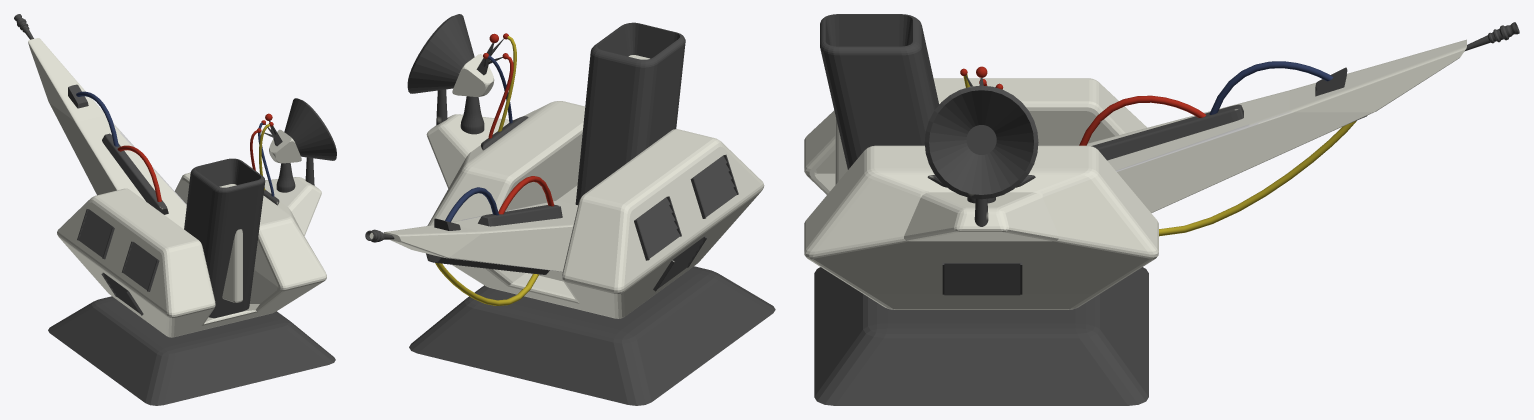
The model's file is ArmaLunar.fbx.
3 views of the same model, side by side, from view 1: azimuth 30°, elevation 25°; view 2: azimuth 150°, elevation 25°; view 3: azimuth 270°, elevation 25° (orthographic). The views are drawn at different scales.
Parts seen in each view (by area): view 1: Cube.001, Cube, Cube.008; view 2: Cube.001, Cube, Cube.008; view 3: Cube.001, Cube, Cube.008.
Part boxes in pixels (bbox=[...]): Cube.001: bbox=[57, 98, 336, 337]; Cube: bbox=[48, 296, 335, 405]; Cube.008: bbox=[14, 14, 186, 228]; Cube.001: bbox=[407, 14, 764, 318]; Cube: bbox=[409, 266, 775, 405]; Cube.008: bbox=[365, 176, 577, 305]; Cube.001: bbox=[804, 14, 1158, 309]; Cube: bbox=[814, 267, 1148, 405]; Cube.008: bbox=[1079, 22, 1519, 236].
Bounding box in the file's own units: 1433 × 1290 × 2513.
Materials: 3 (3 with a texture image).
